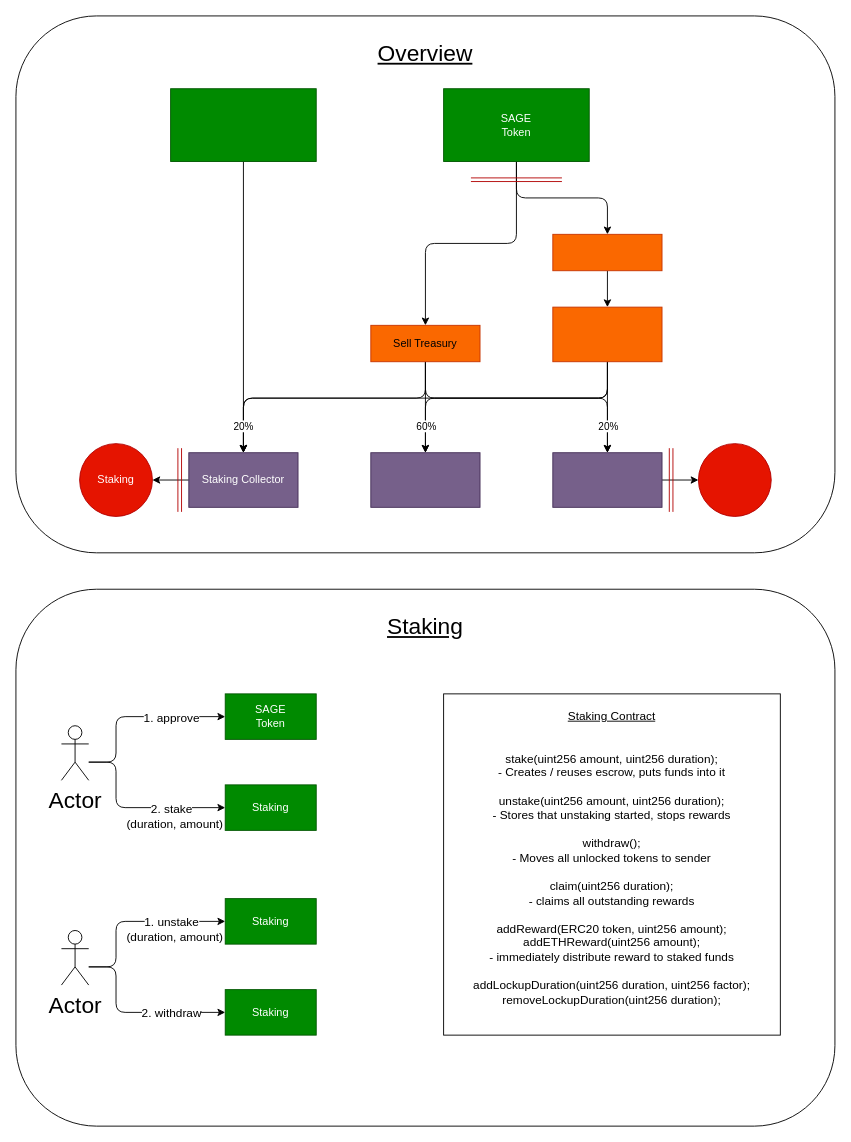
Image size: 851x1142. Some labels were removed from this diagram. The shapes that lost their labels are listed below. From the top down, each one's centre as x and y in pixels, then its label:
At point 243,125: "Telesages".
At point 607,252: "Buy Treasury".
At point 607,334: "Uniswap".
At point 425,479: "Team".
At point 607,479: "LP Collector".
At point 734,479: "Uniswap LP".
